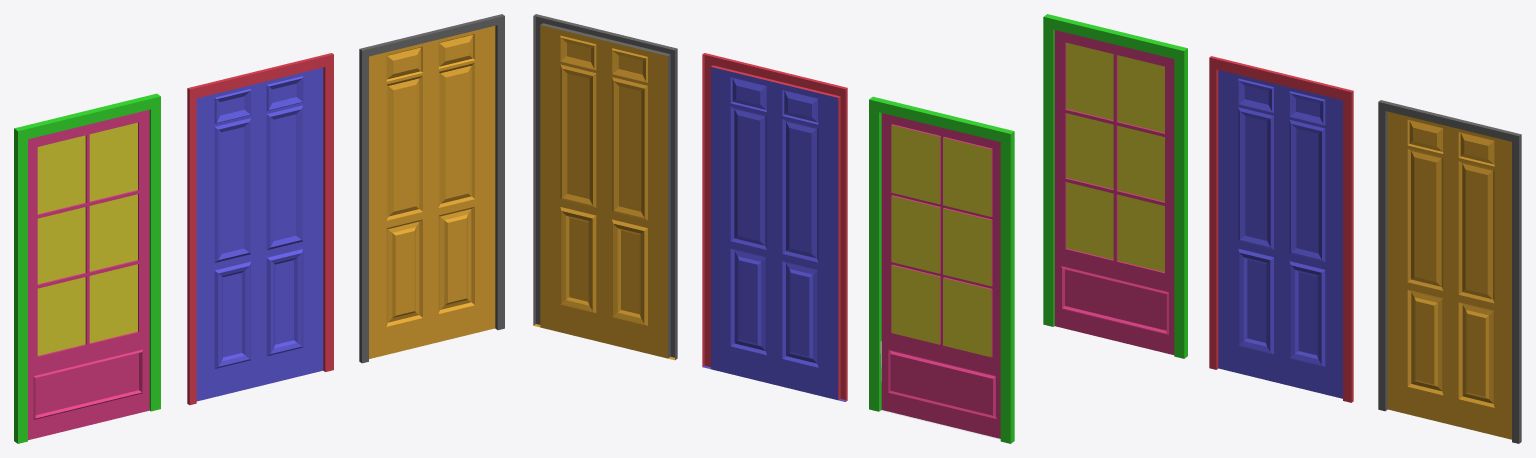
File: Doors.fbx
3 renders of one model, left to right at view 1: azimuth 30°, elevation 25°; view 2: azimuth 150°, elevation 25°; view 3: azimuth 330°, elevation 25°, orthographic.
Parts seen in each view (by area): view 1: Plane, Door, Plane.001; view 2: Plane, Door, Plane.001; view 3: Plane, Door, Plane.001.
Boxes of the visible parts, <box> form: Plane: <box>187,53,333,405</box>; Door: <box>14,93,160,443</box>; Plane.001: <box>359,14,504,363</box>; Plane: <box>702,53,847,401</box>; Door: <box>869,96,1014,443</box>; Plane.001: <box>533,14,677,360</box>; Plane: <box>1209,56,1353,402</box>; Door: <box>1043,14,1187,358</box>; Plane.001: <box>1378,100,1521,443</box>.
Bounding box in the file's own units: 339 × 211 × 7.16.
